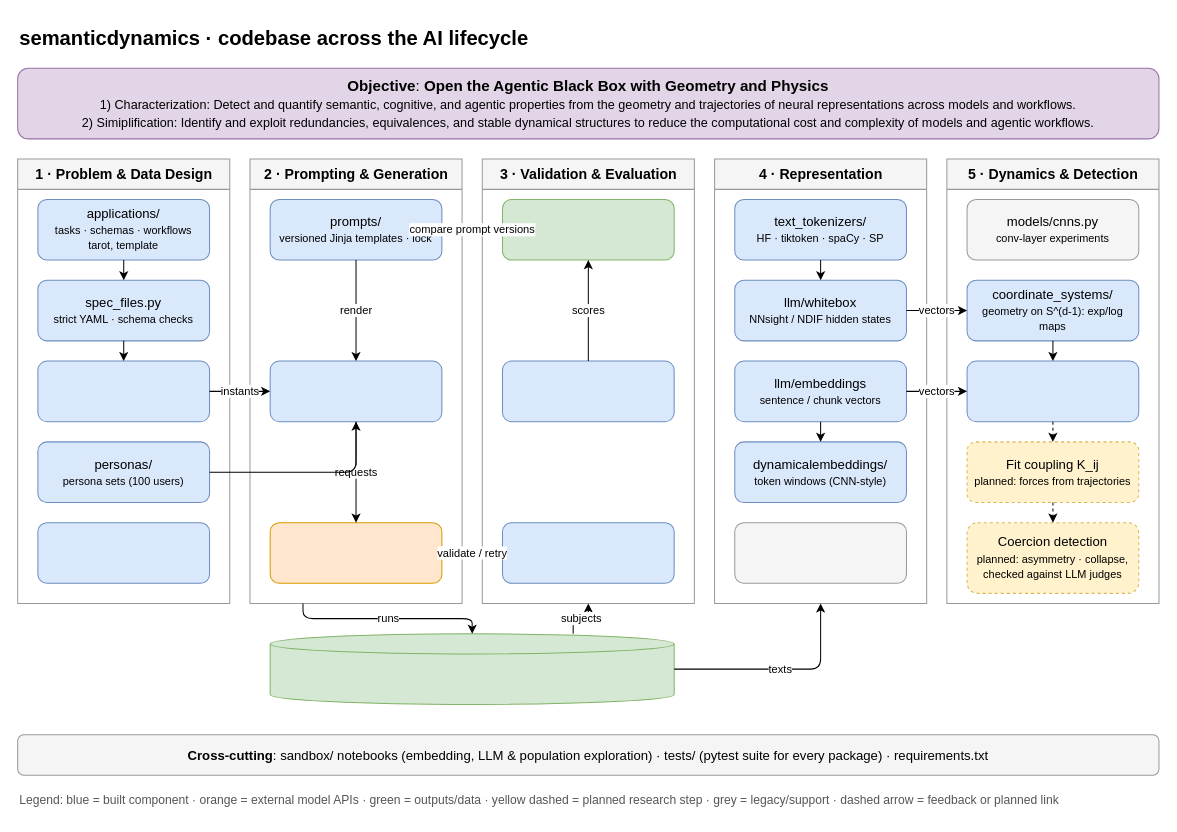
The diagram is 1177 pixels wide and 832 high, and some of its shapes have lost their labels. The centre of each missing label's shape, as x and y in pixels:
"dashboard · summarize HTML analysis of scores" goes at point 587,229.
"data/ generations · evaluations (JSONL → Postgres/DuckDB)" goes at point 471,668.
"data_fetchers/ TruthfulQA download/load" goes at point 123,552.
"embeddings.py · main.py distances · FastAPI (legacy)" goes at point 820,552.
"evaluation/ rubric · persona LLM-as-judge" goes at point 587,391.
"inference/ task config · pipeline · RunStore" goes at point 355,391.
"instantiation/ sample task states (card draws)" goes at point 123,391.
"llm/ providers OpenAI · Featherless · Batch API" goes at point 355,552.
"states · trajectory N particles over turns · integrator" goes at point 1052,391.
"validation/ regex/vocab checks · retries" goes at point 587,552.
